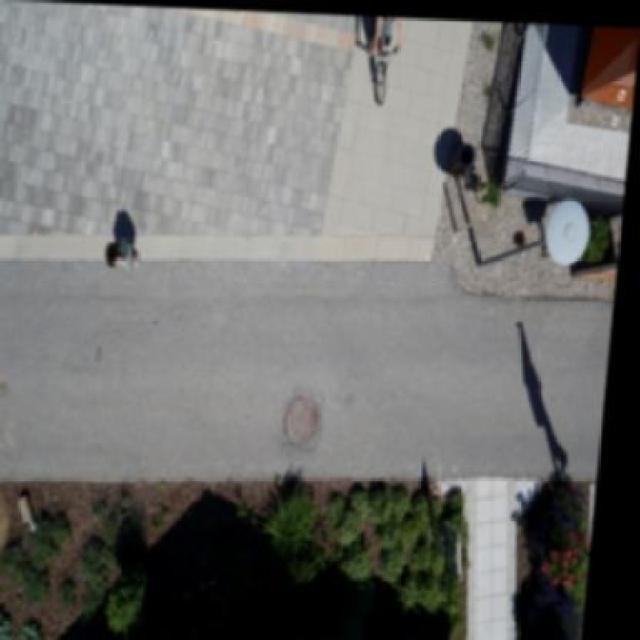Person: (101, 234, 157, 280), (360, 13, 412, 52)
